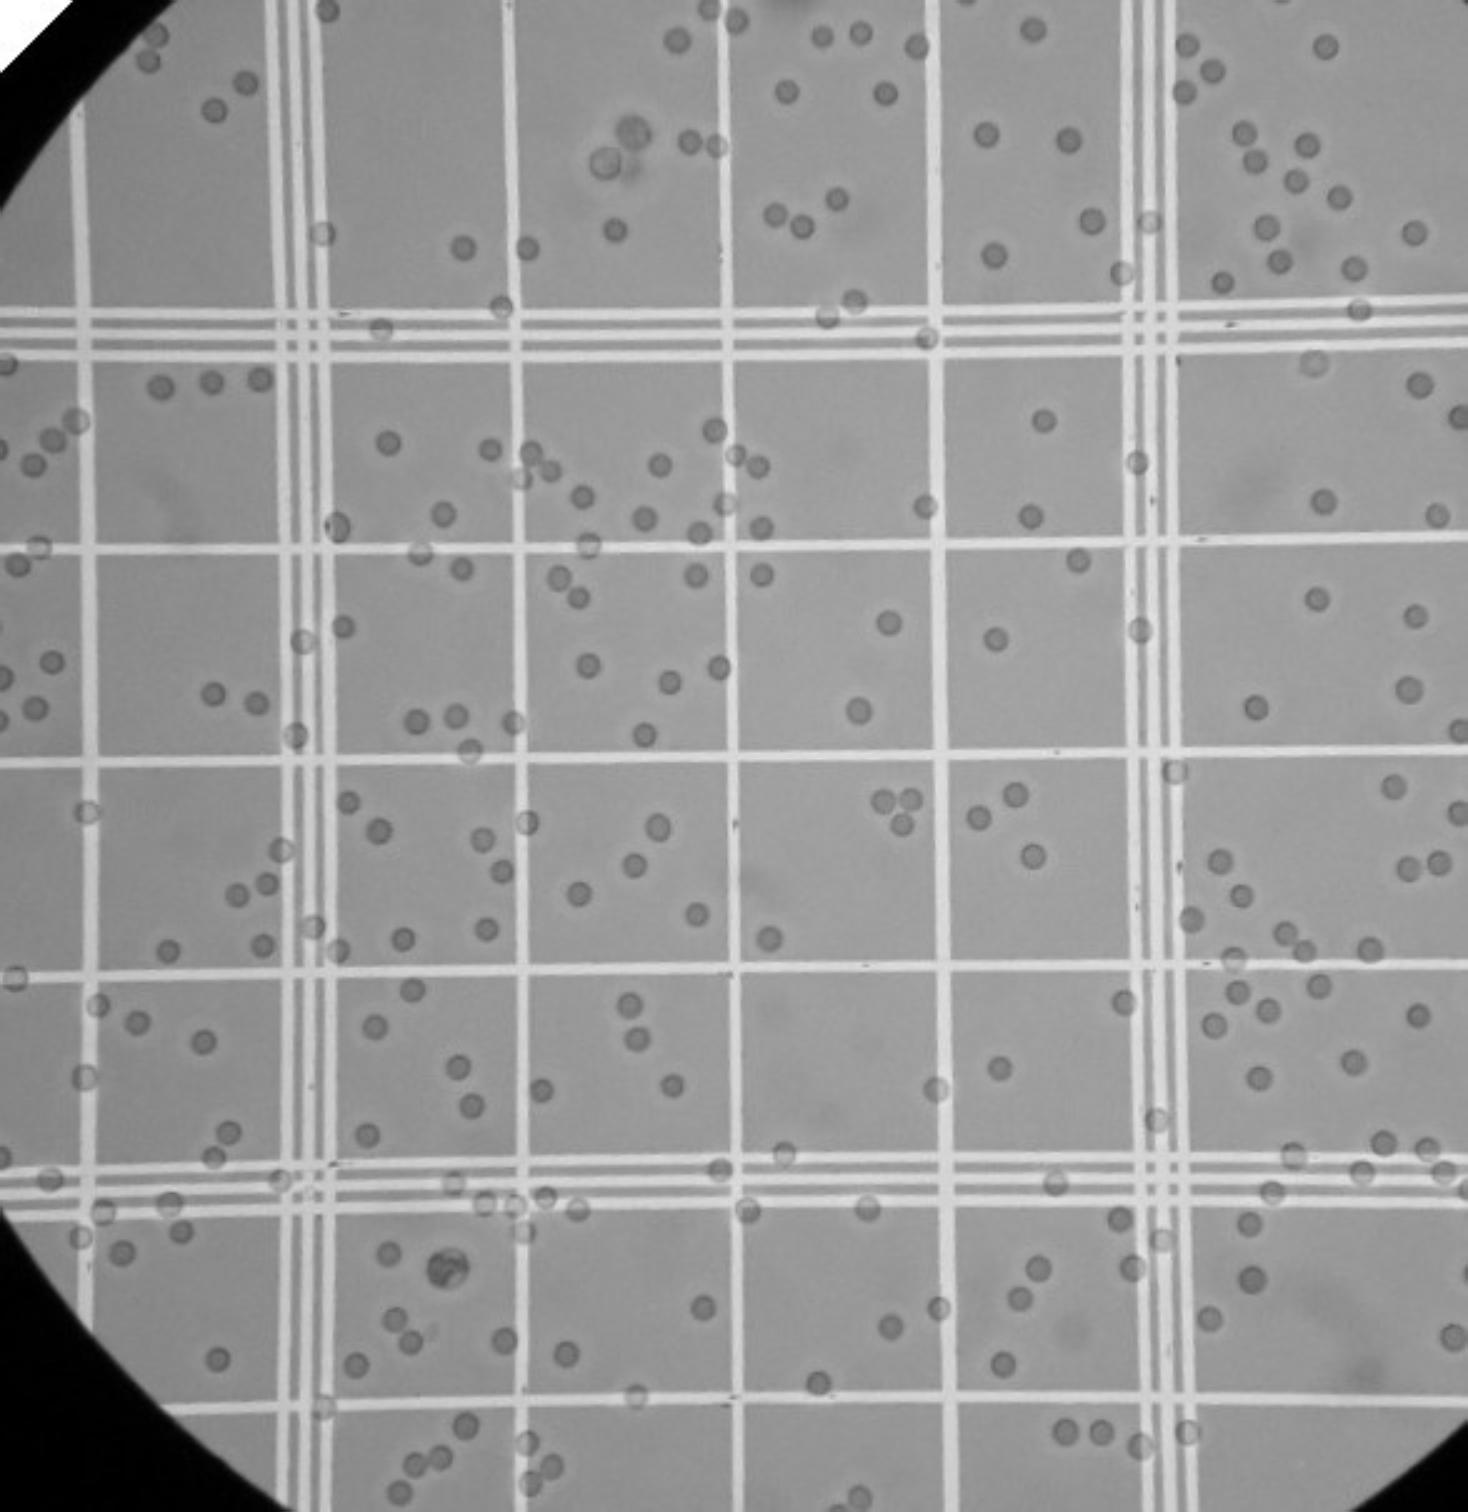cell: (427, 1245, 469, 1291), (616, 117, 652, 148), (451, 1409, 483, 1440), (592, 147, 623, 180), (550, 1339, 581, 1372), (323, 510, 352, 544), (199, 96, 230, 126), (1392, 675, 1425, 703), (1437, 1322, 1467, 1351), (1406, 370, 1436, 400), (281, 720, 309, 751), (157, 1189, 185, 1220), (384, 1478, 415, 1507), (232, 69, 261, 99), (289, 628, 319, 656), (402, 706, 431, 736), (343, 1351, 371, 1381), (1237, 1265, 1265, 1295), (1280, 1141, 1309, 1170), (1356, 934, 1384, 964), (145, 374, 176, 401), (244, 367, 276, 394), (442, 1054, 473, 1081), (1301, 350, 1332, 377), (1161, 757, 1194, 783), (448, 234, 477, 262), (366, 315, 394, 343), (755, 925, 783, 953), (1199, 1013, 1228, 1041), (1340, 1048, 1368, 1076), (204, 1347, 234, 1374), (492, 1326, 519, 1355), (980, 239, 1007, 269), (855, 1193, 882, 1223), (1232, 117, 1259, 147), (1325, 184, 1355, 211), (1118, 1255, 1148, 1282), (1178, 906, 1205, 936), (134, 49, 162, 76), (243, 690, 271, 717), (456, 737, 483, 765), (448, 553, 475, 582), (365, 818, 393, 845), (109, 1241, 138, 1268), (375, 1241, 402, 1269), (473, 915, 500, 944), (664, 27, 691, 55), (972, 119, 999, 147), (1055, 127, 1082, 155), (1294, 130, 1321, 158), (1282, 167, 1310, 194), (1400, 219, 1429, 246), (1126, 1432, 1153, 1461), (1247, 1064, 1274, 1092), (1414, 1135, 1442, 1162), (1310, 487, 1338, 514), (72, 1064, 100, 1091), (307, 220, 336, 246), (123, 1010, 153, 1035), (311, 1392, 336, 1422), (577, 531, 602, 560), (624, 1381, 650, 1411), (508, 1220, 538, 1246), (847, 697, 872, 726), (90, 1196, 115, 1227), (22, 697, 53, 721), (515, 235, 542, 262), (375, 431, 402, 458), (442, 702, 469, 729), (617, 992, 644, 1019), (469, 828, 496, 855), (565, 882, 592, 909), (903, 34, 930, 61), (712, 489, 739, 516), (876, 1314, 903, 1341), (922, 1077, 949, 1104), (966, 805, 993, 832), (1018, 18, 1045, 45), (1197, 1305, 1224, 1332), (1175, 1419, 1202, 1446), (1369, 1129, 1396, 1156), (1242, 694, 1269, 721), (1423, 502, 1450, 529), (63, 408, 90, 435), (200, 682, 228, 707), (266, 838, 294, 864), (402, 1451, 428, 1480), (625, 1026, 654, 1052), (701, 416, 727, 444), (735, 1197, 763, 1223), (806, 1369, 832, 1397), (847, 1482, 872, 1511), (1020, 502, 1045, 531), (990, 1350, 1016, 1378), (1026, 1254, 1052, 1282), (1044, 1166, 1070, 1195), (1053, 1417, 1079, 1446), (1237, 1210, 1263, 1238), (1395, 856, 1423, 882), (1427, 849, 1453, 878), (5, 549, 31, 578), (41, 429, 69, 455), (362, 1015, 392, 1039), (515, 1428, 539, 1458), (199, 370, 224, 397), (408, 539, 434, 566), (429, 502, 456, 528), (335, 790, 361, 817), (254, 871, 281, 896), (250, 932, 276, 959), (398, 977, 425, 1003), (190, 1029, 217, 1054), (216, 1120, 243, 1146), (169, 1219, 196, 1245), (428, 1444, 454, 1471), (458, 1093, 485, 1119), (515, 810, 542, 836), (546, 566, 571, 593), (501, 1191, 527, 1218), (841, 289, 868, 315), (814, 302, 840, 329), (871, 78, 897, 105), (986, 1054, 1012, 1081), (870, 788, 895, 815), (1003, 780, 1029, 807), (1080, 208, 1106, 235), (1255, 215, 1280, 242), (1128, 616, 1153, 643), (1111, 990, 1137, 1017), (1143, 1107, 1170, 1133), (1107, 1206, 1134, 1231), (1089, 1417, 1114, 1444), (1349, 1160, 1375, 1187), (38, 1166, 63, 1193), (27, 535, 53, 562), (301, 913, 325, 941), (200, 1146, 228, 1170), (772, 1141, 797, 1169), (1222, 945, 1247, 973), (41, 648, 65, 676), (538, 1453, 560, 1482), (1407, 1002, 1430, 1031), (73, 801, 103, 823), (355, 1123, 381, 1149), (675, 130, 701, 155), (725, 8, 751, 34), (1032, 408, 1057, 433), (1007, 1287, 1033, 1312), (1313, 34, 1338, 59), (1125, 450, 1151, 475), (1066, 548, 1091, 574), (1259, 1180, 1284, 1206), (1256, 998, 1282, 1023), (1272, 921, 1298, 946), (1403, 602, 1429, 628), (1382, 774, 1407, 799), (490, 293, 515, 320), (331, 612, 355, 639), (500, 711, 527, 736), (390, 925, 415, 952), (578, 652, 602, 679), (750, 562, 774, 589), (691, 1295, 716, 1322), (983, 625, 1007, 652), (22, 454, 49, 478), (519, 1469, 542, 1497), (1147, 1228, 1176, 1250), (382, 1308, 407, 1334), (400, 1330, 424, 1355), (490, 860, 515, 886), (565, 1197, 590, 1222), (774, 80, 799, 104), (876, 612, 901, 637), (890, 811, 916, 836), (1022, 844, 1047, 869), (1109, 261, 1134, 285), (1199, 58, 1225, 82), (1241, 150, 1267, 174), (1268, 248, 1292, 274), (1432, 1160, 1457, 1184), (1307, 973, 1333, 998), (1207, 849, 1233, 873), (145, 24, 170, 49), (477, 439, 504, 462), (226, 882, 248, 909), (442, 1169, 465, 1196), (473, 1189, 496, 1216), (646, 814, 669, 841), (1136, 211, 1163, 234), (5, 967, 28, 994), (1446, 799, 1468, 828), (519, 441, 543, 466), (623, 855, 647, 879), (745, 455, 770, 479), (750, 517, 774, 541), (926, 1297, 951, 1322), (1230, 884, 1255, 909), (1292, 940, 1317, 964), (86, 994, 111, 1018), (706, 134, 731, 158), (571, 483, 594, 509), (604, 219, 629, 242), (533, 1187, 556, 1212), (791, 215, 814, 240), (849, 20, 872, 46), (916, 325, 939, 351), (685, 563, 708, 589), (708, 655, 731, 680), (708, 1157, 731, 1183), (1342, 256, 1365, 282), (1228, 980, 1251, 1006), (1346, 298, 1372, 321), (70, 1224, 93, 1250), (157, 940, 180, 964), (660, 1075, 683, 1099), (633, 724, 656, 748), (827, 186, 849, 211), (764, 202, 787, 227), (687, 520, 712, 543), (916, 494, 939, 518), (1175, 32, 1198, 57), (1172, 81, 1197, 104), (1305, 589, 1329, 612), (327, 938, 348, 964), (267, 1169, 293, 1191), (569, 585, 590, 610), (660, 670, 681, 697), (632, 508, 655, 531), (531, 1079, 552, 1103), (812, 24, 833, 49), (686, 903, 708, 927), (1450, 717, 1468, 745), (1450, 402, 1468, 431), (650, 454, 671, 477), (724, 444, 745, 467), (899, 788, 921, 811), (1211, 270, 1234, 292), (315, 1, 338, 23), (1, 352, 22, 377), (540, 459, 560, 482)
